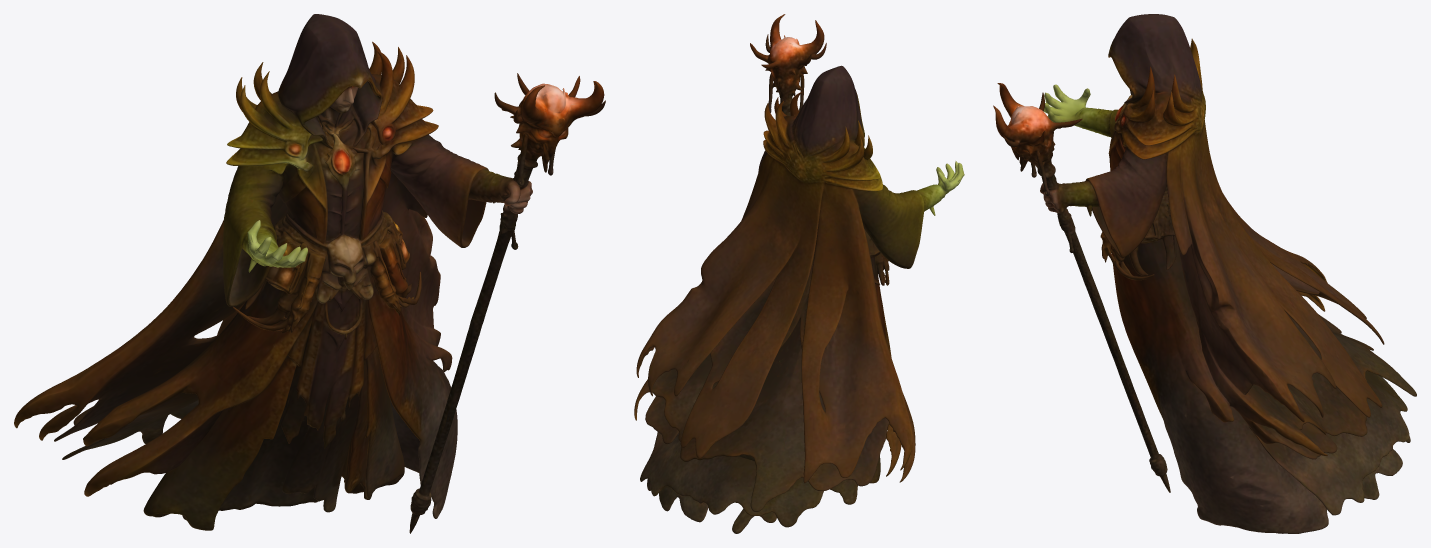
File: warlock_full_male_01.glb
3 views of the same model, side by side, from view 1: azimuth 30°, elevation 25°; view 2: azimuth 150°, elevation 25°; view 3: azimuth 270°, elevation 25° (orthographic). The views are drawn at different scales.
Visible parts, largest first — view 1: material; view 2: material; view 3: material.
Boxes of the visible parts, x1,y1,x2,y2 form: material: (14, 14, 605, 533); material: (634, 14, 964, 533); material: (993, 14, 1416, 533).
Size of the model in its own units: 0.6413 by 0.853 by 0.7251.
Materials: 1 (1 with a texture image).
